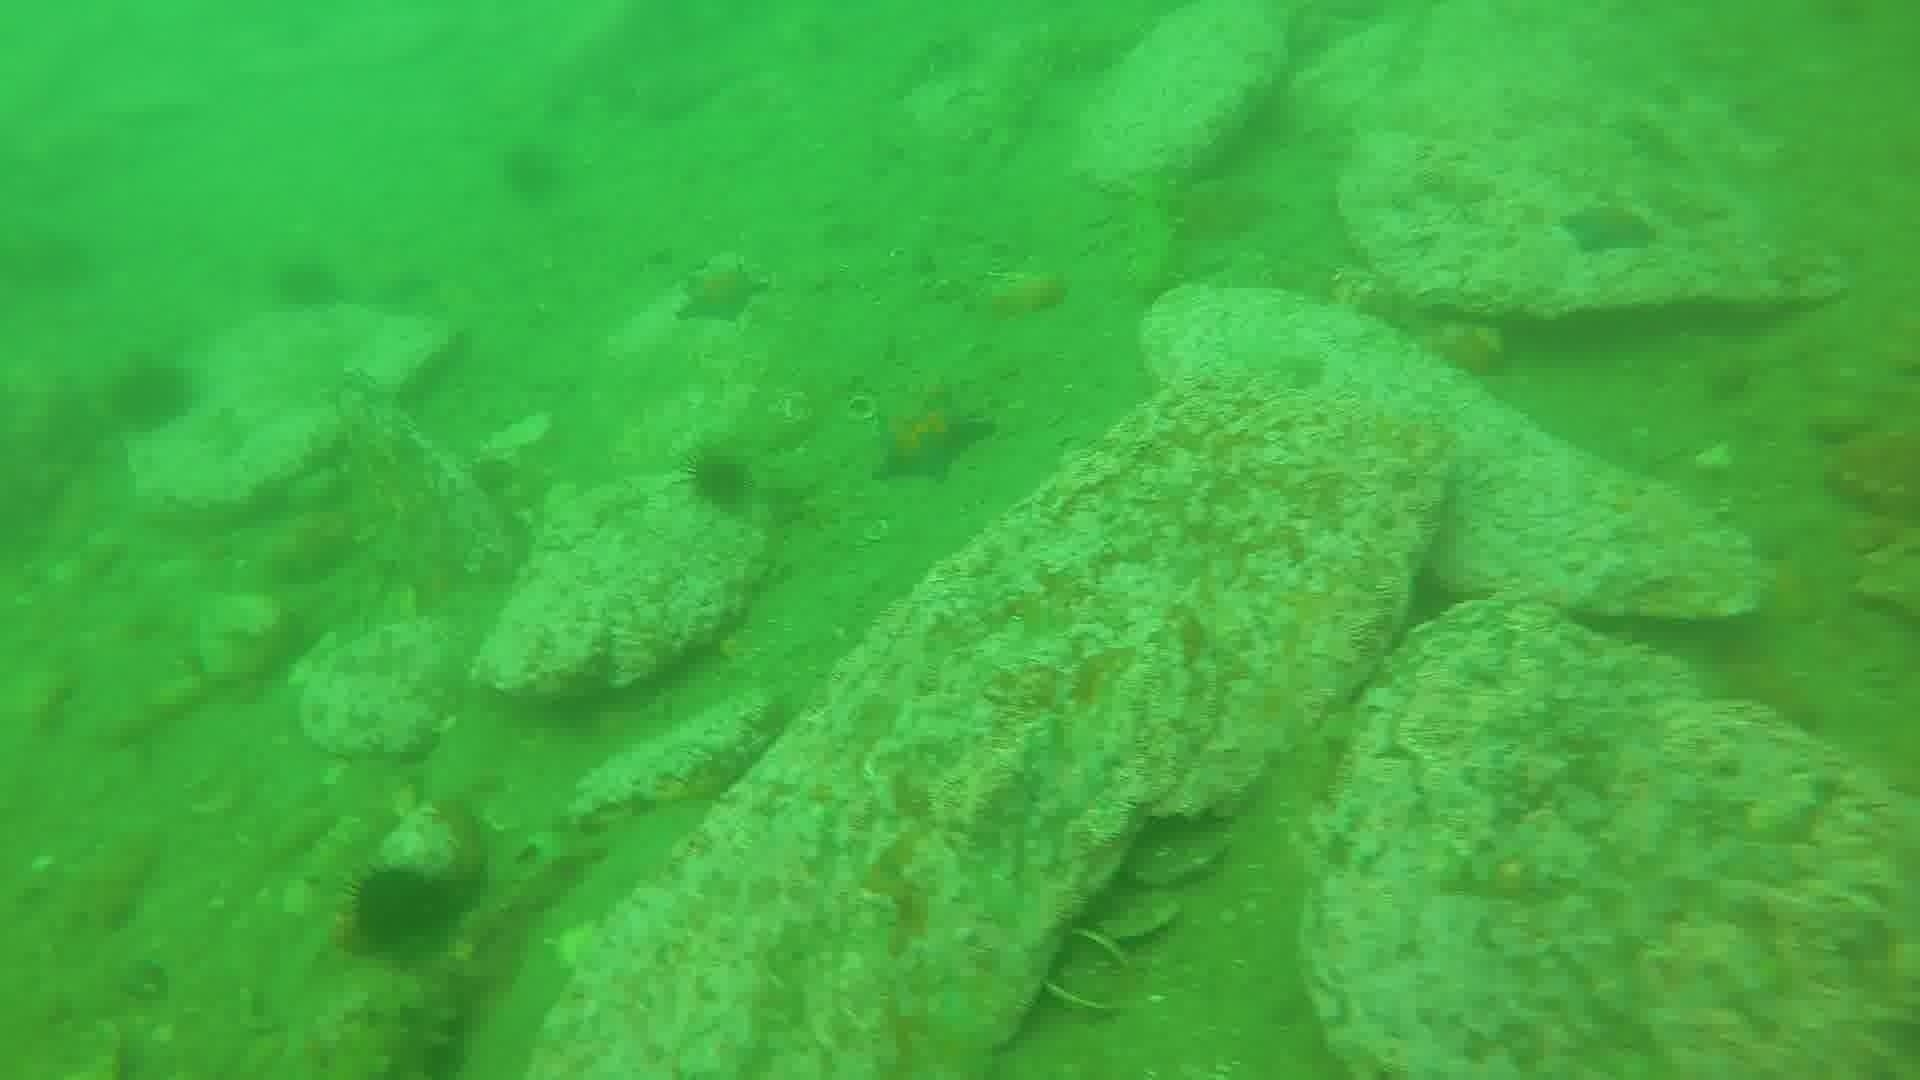echinus: (339, 860, 460, 960), (103, 353, 200, 438), (680, 443, 761, 518), (495, 136, 568, 207), (269, 252, 345, 316)
holothurian: (371, 961, 477, 1080)
starfish: (866, 385, 1000, 488), (671, 255, 771, 330), (1555, 196, 1662, 261)
